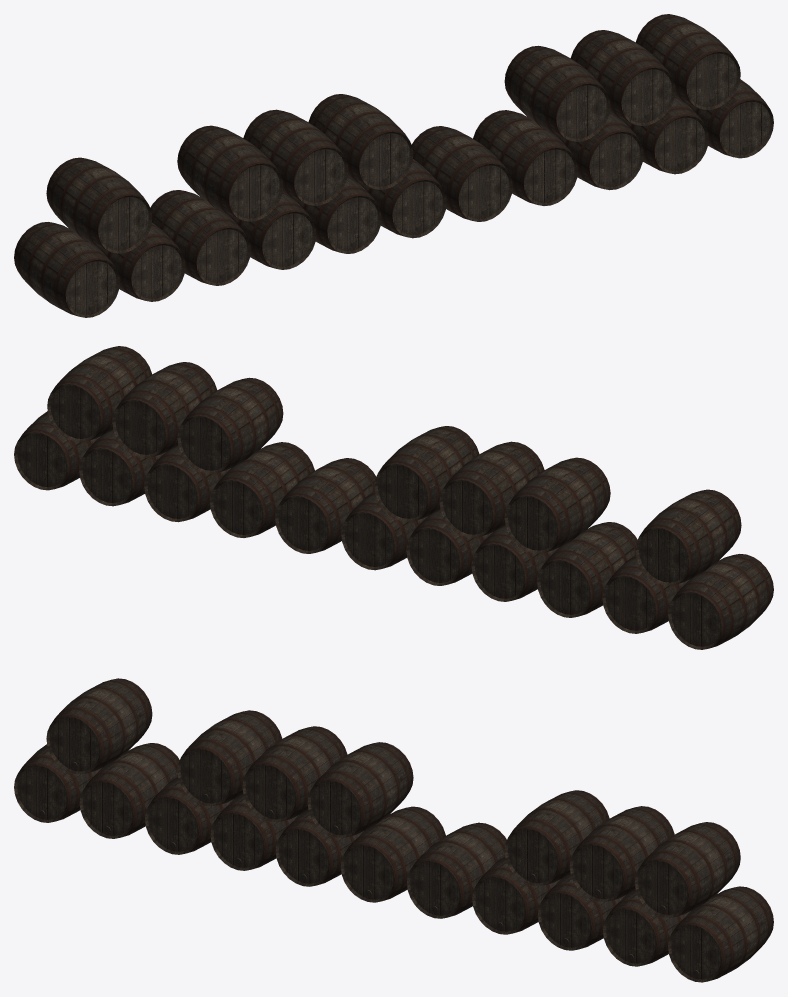
The model's file is collapse_barrels.DAE.
The picture shows the model from 3 angles, top to bottom: view 1: azimuth 30°, elevation 25°; view 2: azimuth 150°, elevation 25°; view 3: azimuth 330°, elevation 25°; orthographic projection.
Visible parts, largest first — view 1: Box004; view 2: Box004; view 3: Box004.
Part boxes in pixels (x1,y1,x2,y2): Box004: (14, 14, 773, 317); Box004: (14, 346, 773, 649); Box004: (14, 678, 773, 982).
Size of the model in its own units: 18.53 by 3.03 by 2.31.
